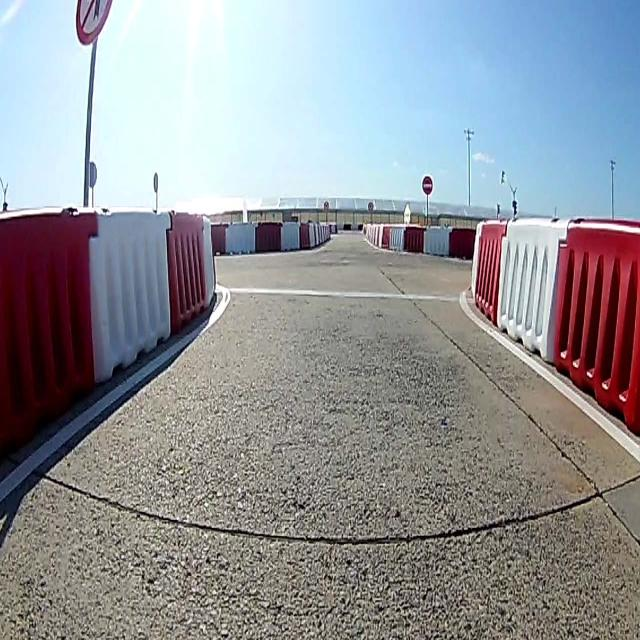girisyok: (420, 174, 436, 201)
